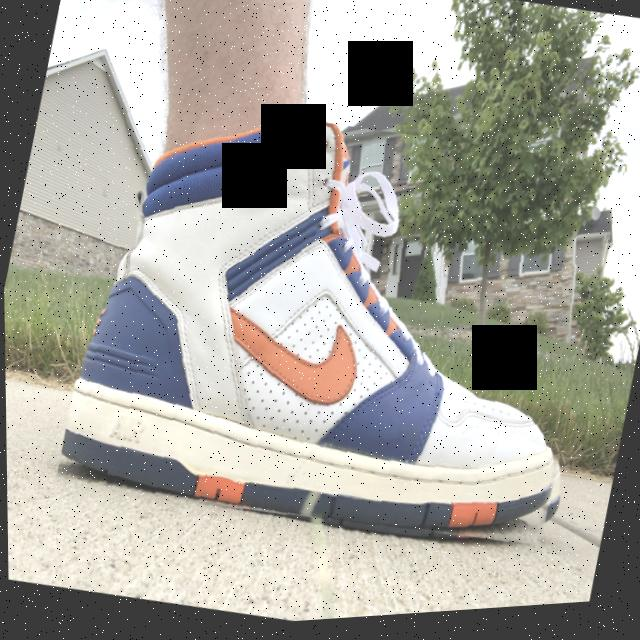shoe: (49, 70, 629, 591)
